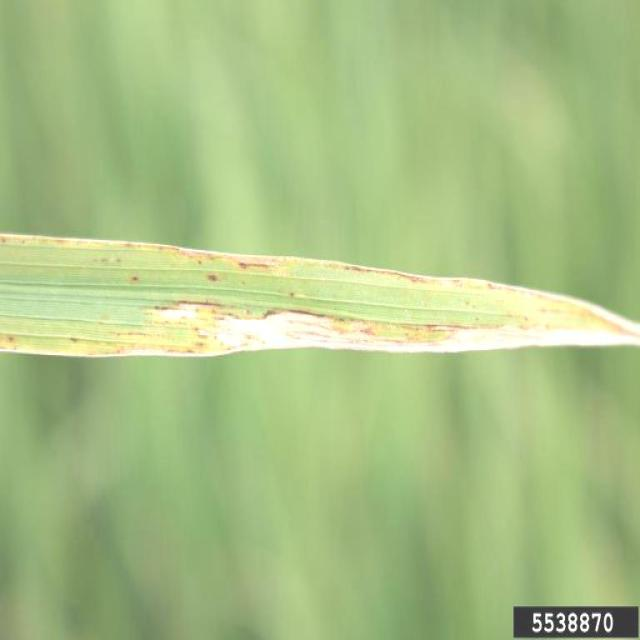Bacterial_Leaf_Blight: (0, 228, 523, 302), (87, 296, 628, 365)
